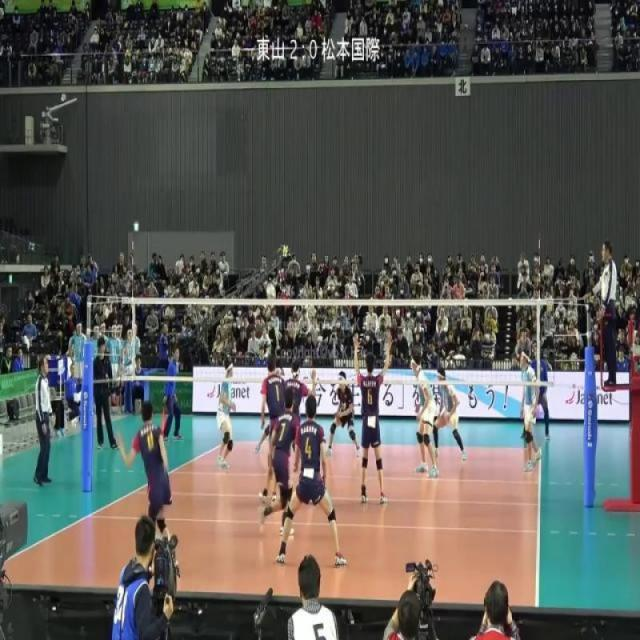volleyball: (266, 282, 277, 301)
